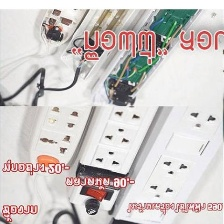three_eye_plug: (103, 105, 223, 223), (89, 0, 207, 107), (61, 105, 162, 219), (57, 0, 146, 84), (25, 104, 94, 181), (38, 0, 87, 51)
